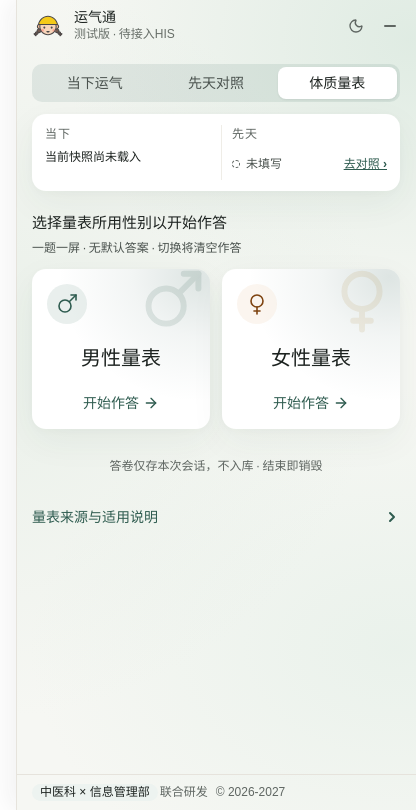
ConstitutionForm › combines the context and nine dimensions, counts shared answers, and keeps only the question and hint in the header
The width and height of the screenshot is (416, 810).
Click the radio button labelled "男性量表". click: (121, 349)
box: [32, 269, 210, 429]
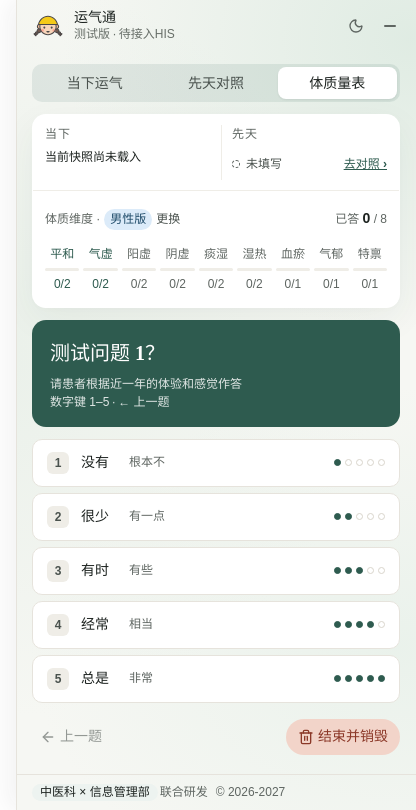
expect the number of list items is 9: met
Type keys "1"
Wait 240 ms
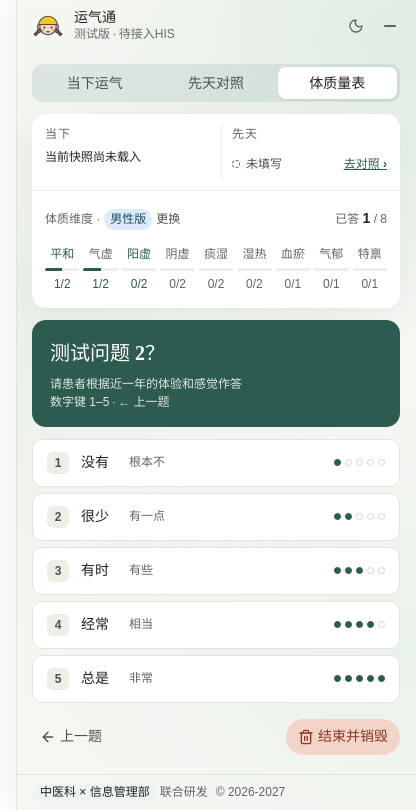
Type keys "2"
Wait 240 ms
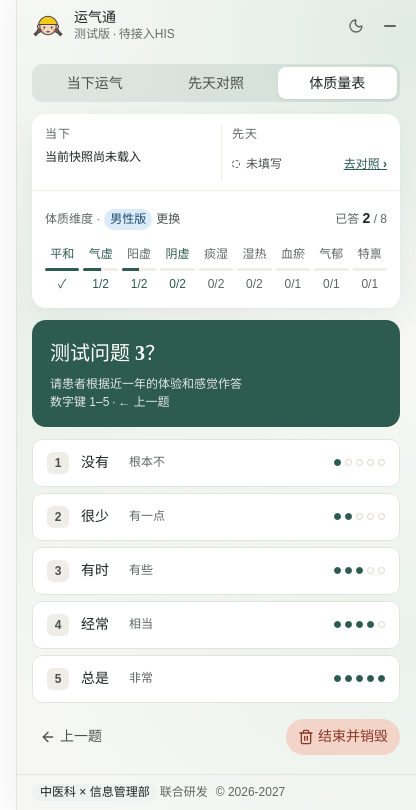
expect the picture named "已答 2 / 8 题，当前第 3 题" reads "已答 2 / 8": met, box [335, 207, 387, 229]
expect the list item "平和 ✓" is shown: met, box [45, 245, 79, 295]
Click the button "上一题". click: (71, 737)
box: [32, 719, 110, 755]
(page scrolled)
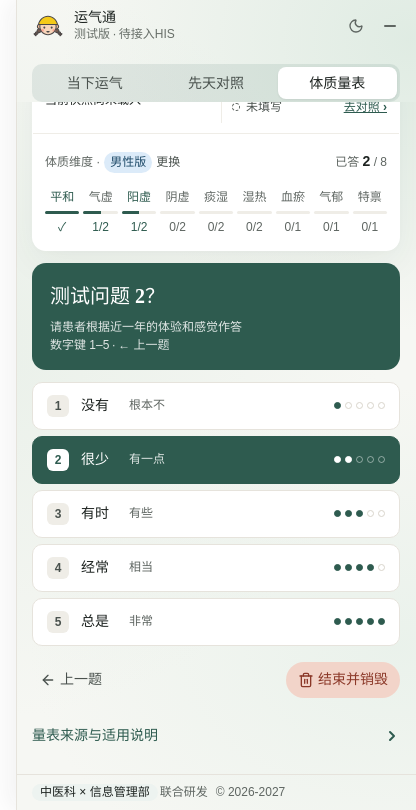
expect the picture named "已答 2 / 8 题，当前第 2 题" is shown: met, box [335, 150, 387, 172]
expect the heading "量表来源与适用说明" is shown: met, box [32, 727, 400, 744]
